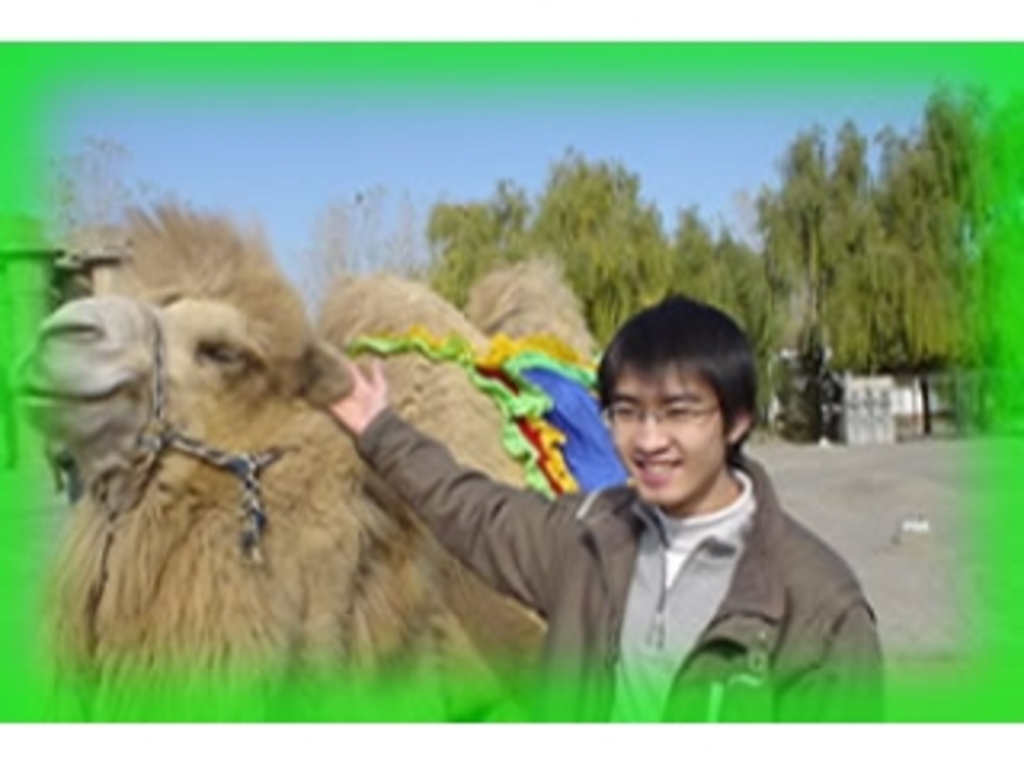Person: (314, 283, 886, 723)
